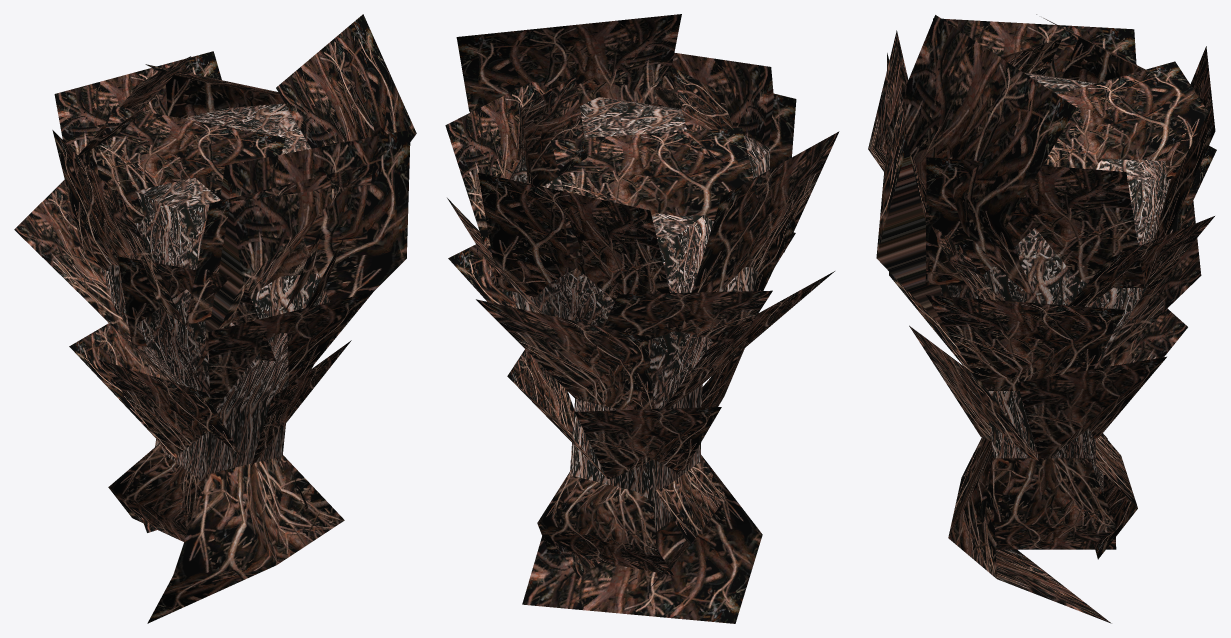
File: poi_all_lair_thicket_small_l2.fbx
3 renders of one model, left to right at view 1: azimuth 30°, elevation 25°; view 2: azimuth 150°, elevation 25°; view 3: azimuth 270°, elevation 25°, orthographic. The views are drawn at different scales.
Visible parts, largest first — view 1: mesh_node; view 2: mesh_node; view 3: mesh_node.
Boxes of the visible parts, left/top/right/bottom form: mesh_node: left=14, top=14, right=416, bottom=623; mesh_node: left=445, top=14, right=839, bottom=623; mesh_node: left=868, top=14, right=1216, bottom=623.
Bounding box in the file's own units: 2.81 × 4.17 × 2.26.
